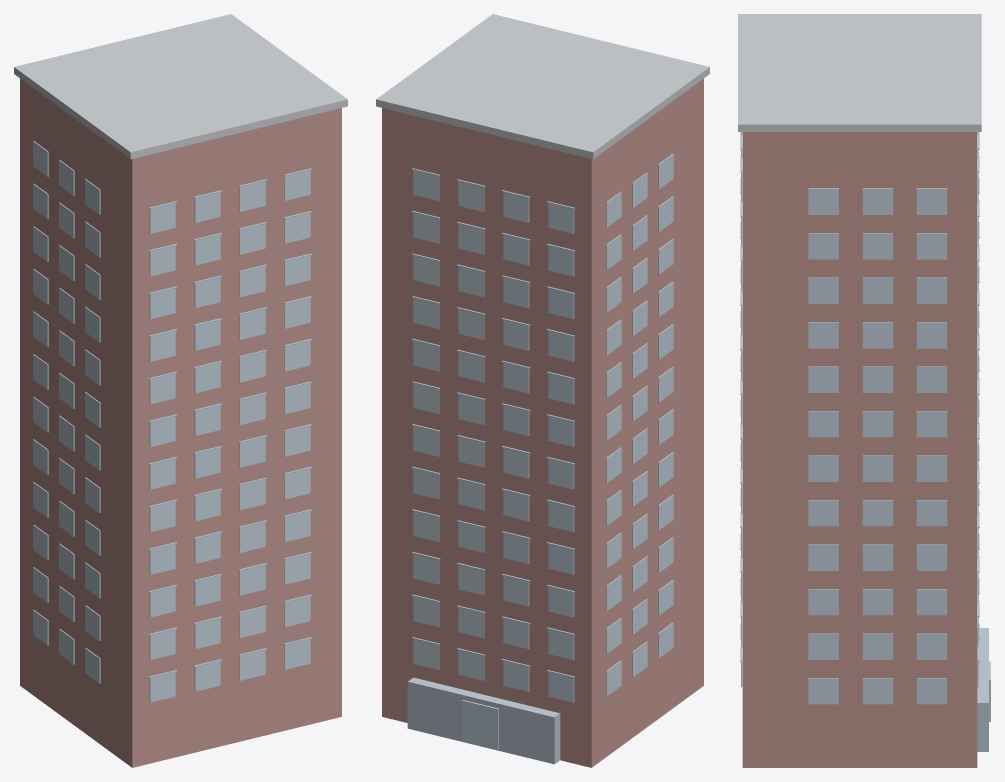
Rendered from edificio_ladrillo.glb.
3 renders of one model, left to right at view 1: azimuth 30°, elevation 25°; view 2: azimuth 150°, elevation 25°; view 3: azimuth 270°, elevation 25°, orthographic. The views are drawn at different scales.
Parts seen in each view (by area): view 1: BuildingFacade_1, Rooftop_2, Window_239, Window_63, Window_151, Window_195, Window_235, Window_19, Window_29, Window_33, Window_107, Window_121 (+38 smaller); view 2: BuildingFacade_1, Rooftop_2, Lobby_3, GlassDoor_4, Window_237, Window_61, Window_149, Window_193, Window_233, Window_17, Window_27, Window_31 (+40 smaller); view 3: BuildingFacade_1, Rooftop_2, Lobby_3, SideWindow_44, SideWindow_46, SideWindow_88, SideWindow_90, SideWindow_132, SideWindow_134, SideWindow_176, SideWindow_178, SideWindow_198 (+27 smaller).
Part boxes in pixels (bbox=[...]): BuildingFacade_1: bbox=[20, 78, 341, 767]; Rooftop_2: bbox=[14, 14, 347, 159]; Window_239: bbox=[284, 213, 310, 243]; Window_63: bbox=[284, 554, 310, 584]; Window_151: bbox=[284, 383, 310, 413]; Window_195: bbox=[284, 298, 310, 328]; Window_235: bbox=[239, 224, 265, 254]; Window_19: bbox=[284, 639, 310, 669]; Window_29: bbox=[149, 629, 175, 660]; Window_33: bbox=[194, 618, 220, 649]; Window_107: bbox=[284, 469, 310, 499]; Window_121: bbox=[194, 448, 220, 478]; BuildingFacade_1: bbox=[382, 78, 703, 767]; Rooftop_2: bbox=[376, 14, 709, 159]; Lobby_3: bbox=[407, 677, 560, 764]; GlassDoor_4: bbox=[462, 700, 498, 749]; Window_237: bbox=[413, 213, 439, 243]; Window_61: bbox=[413, 554, 439, 584]; Window_149: bbox=[413, 383, 439, 413]; Window_193: bbox=[413, 298, 439, 328]; Window_233: bbox=[458, 224, 484, 254]; Window_17: bbox=[413, 639, 439, 669]; Window_27: bbox=[548, 629, 574, 660]; Window_31: bbox=[503, 618, 529, 649]; BuildingFacade_1: bbox=[742, 132, 977, 767]; Rooftop_2: bbox=[738, 14, 981, 131]; Lobby_3: bbox=[977, 628, 988, 751]; SideWindow_44: bbox=[916, 633, 947, 659]; SideWindow_46: bbox=[862, 633, 893, 659]; SideWindow_88: bbox=[916, 544, 947, 570]; SideWindow_90: bbox=[862, 544, 893, 570]; SideWindow_132: bbox=[916, 455, 947, 481]; SideWindow_134: bbox=[862, 455, 893, 481]; SideWindow_176: bbox=[916, 366, 947, 392]; SideWindow_178: bbox=[862, 366, 893, 392]; SideWindow_198: bbox=[916, 322, 947, 348].
Bounding box in the file's own units: 14.5 × 39.44 × 14.01.
